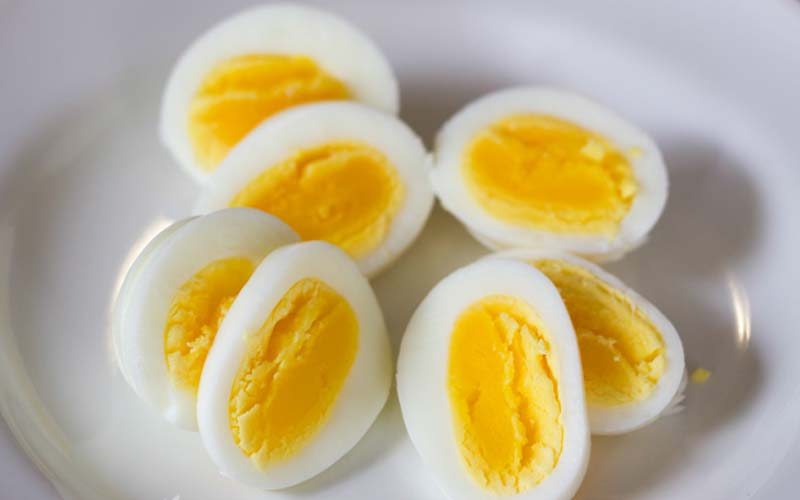Telur: (440, 80, 687, 263), (397, 253, 579, 491), (200, 249, 371, 467), (154, 8, 404, 153), (98, 189, 254, 383), (244, 110, 425, 254), (544, 285, 704, 428)
